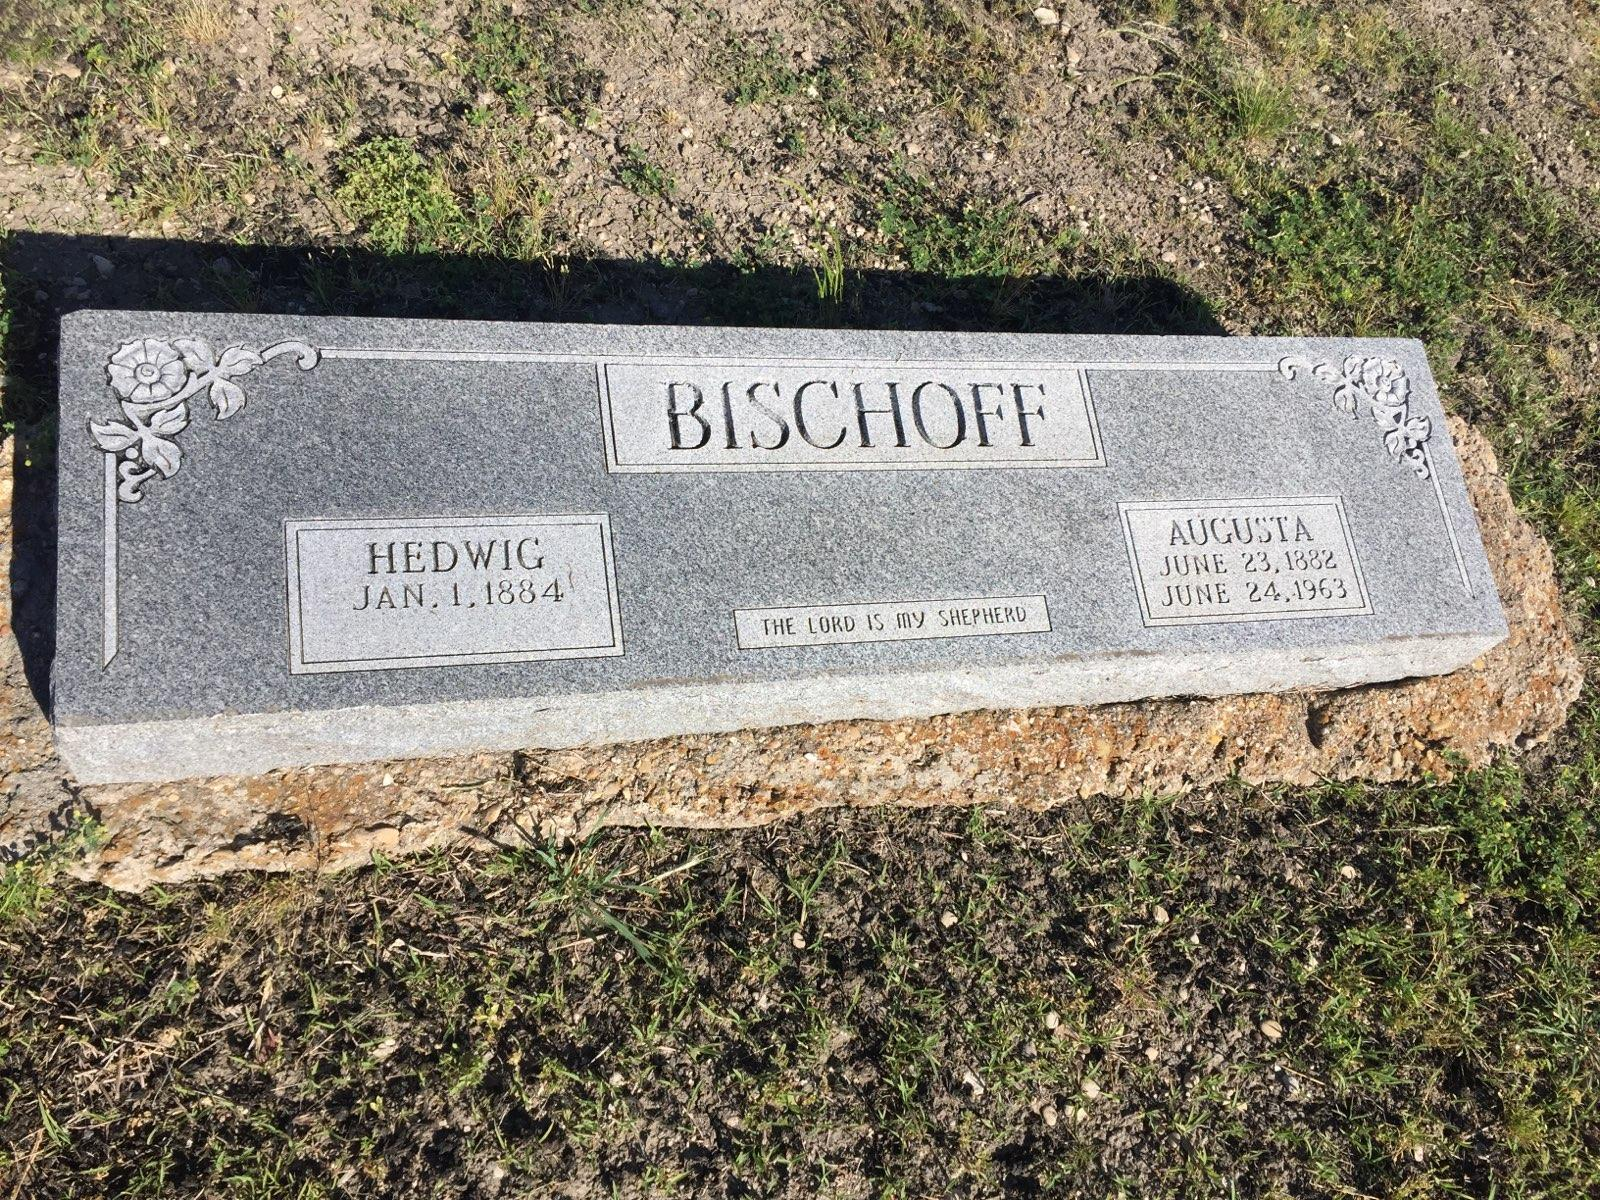flat: (42, 268, 1528, 792)
